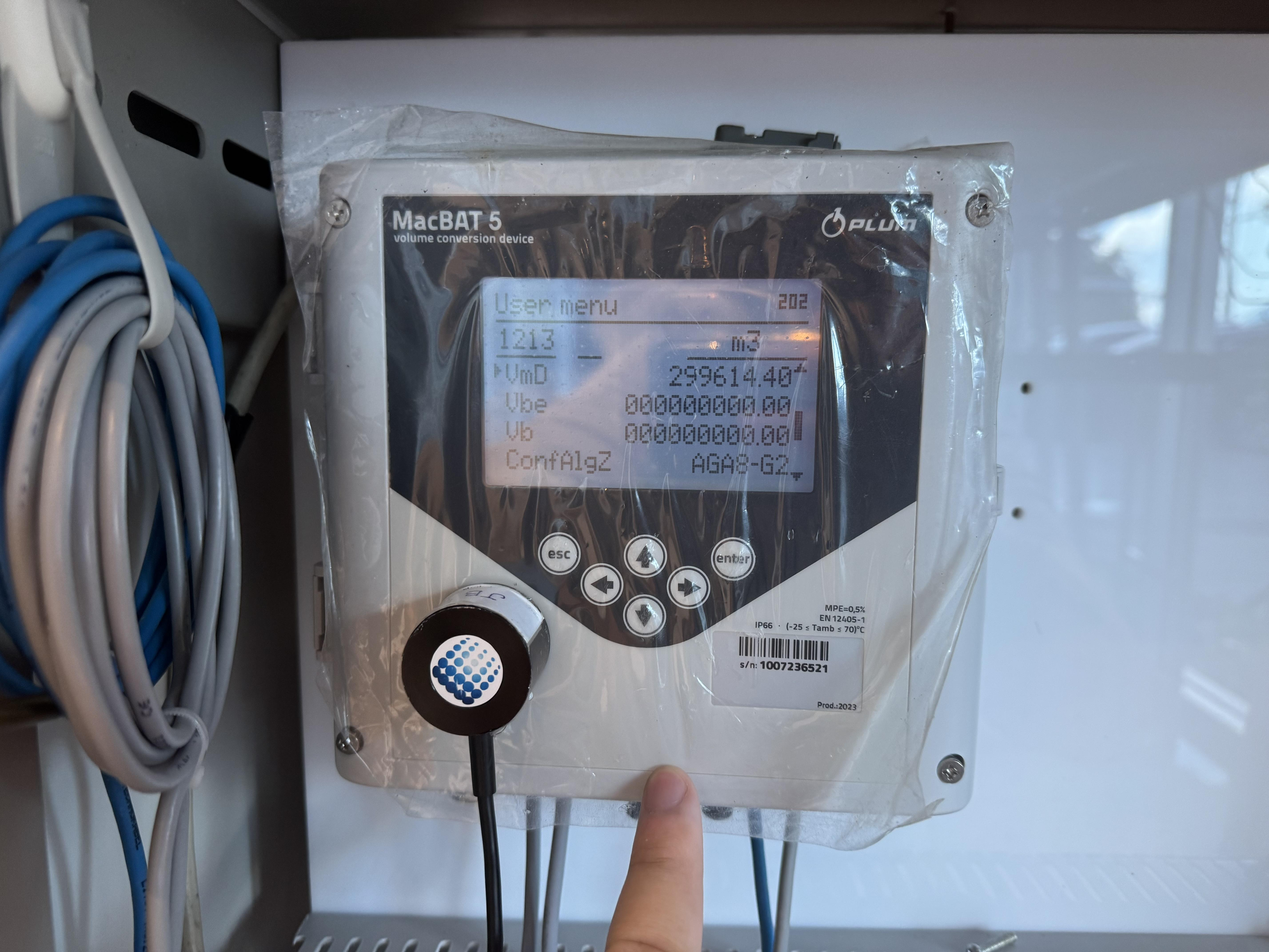digital_screen: (476, 273, 822, 491)
